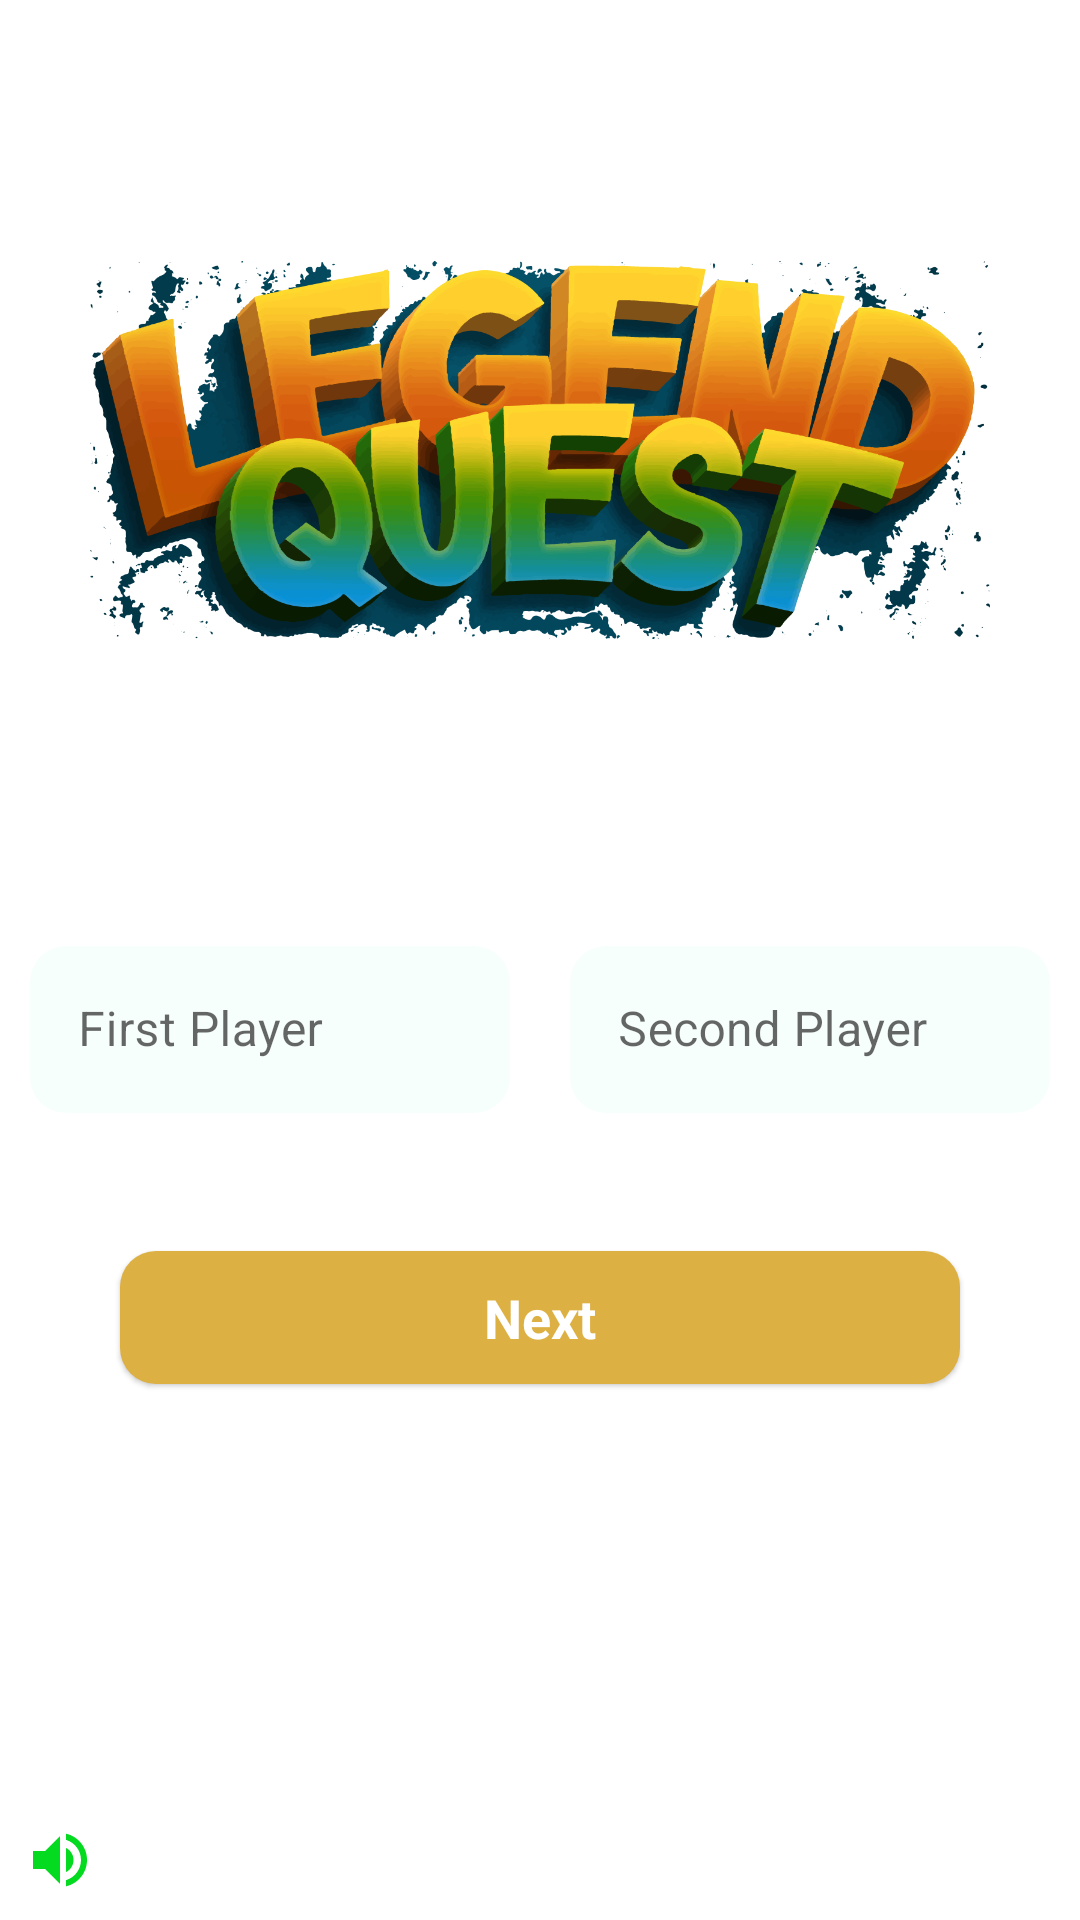

Named icons in this screenshot (1080 x 1920) and their centers, [x,y]:
volume up: [60,1860]
